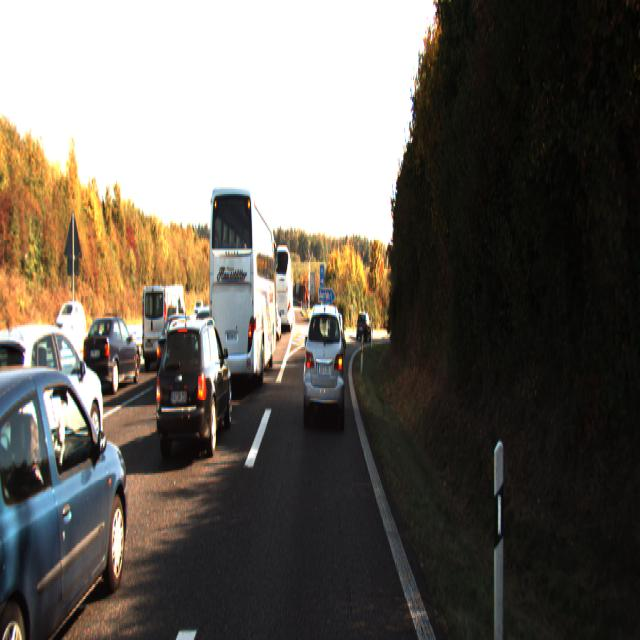Car: (0, 349, 133, 638), (0, 317, 106, 519), (207, 182, 276, 398), (152, 315, 232, 466), (302, 300, 346, 430), (81, 314, 142, 396), (141, 282, 184, 365), (273, 246, 293, 334), (356, 313, 372, 342)
